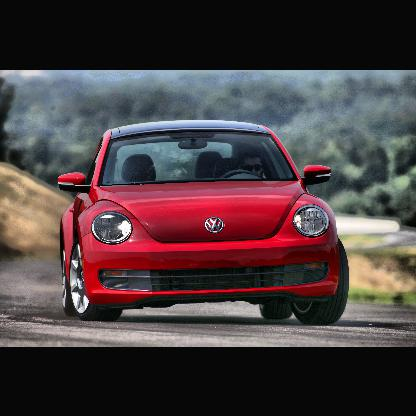Volkswagen Beetle Hatchback 2012: (59, 119, 351, 327)
